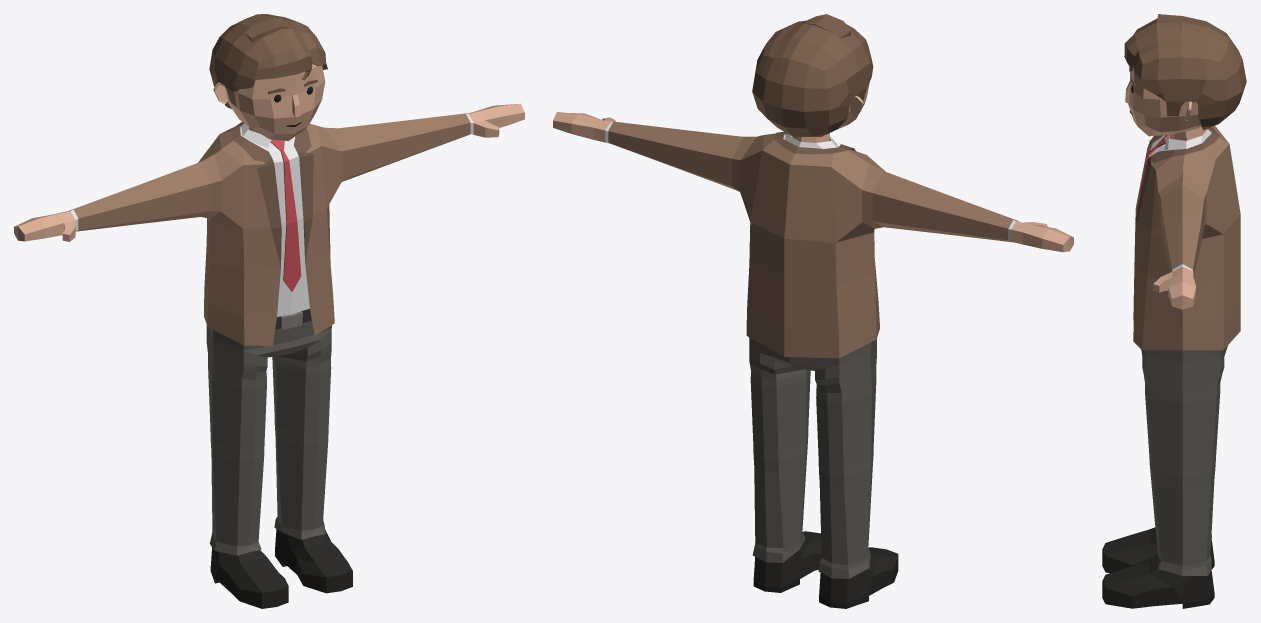
File: npc_elijah_static.fbx
The picture shows the model from 3 angles, left to right: view 1: azimuth 30°, elevation 25°; view 2: azimuth 150°, elevation 25°; view 3: azimuth 270°, elevation 25°; orthographic projection.
Visible parts, largest first — view 1: torso, coat, hair, head, tie; view 2: coat, torso, hair; view 3: torso, coat, hair, head, tie.
Part boxes in pixels (left/top/right/bottom): torso: left=14, top=103, right=524, bottom=608; coat: left=68, top=113, right=470, bottom=345; hair: left=209, top=14, right=327, bottom=108; head: left=227, top=64, right=325, bottom=140; tie: left=270, top=139, right=301, bottom=291; coat: left=608, top=121, right=1018, bottom=358; torso: left=553, top=111, right=1073, bottom=608; hair: left=752, top=14, right=873, bottom=136; torso: left=1102, top=126, right=1227, bottom=608; coat: left=1133, top=126, right=1240, bottom=350; hair: left=1124, top=14, right=1246, bottom=130; head: left=1125, top=67, right=1201, bottom=136; tie: left=1136, top=135, right=1169, bottom=214.
Size of the model in its own units: 637 by 669 by 156.
1 material, 1 textured.
